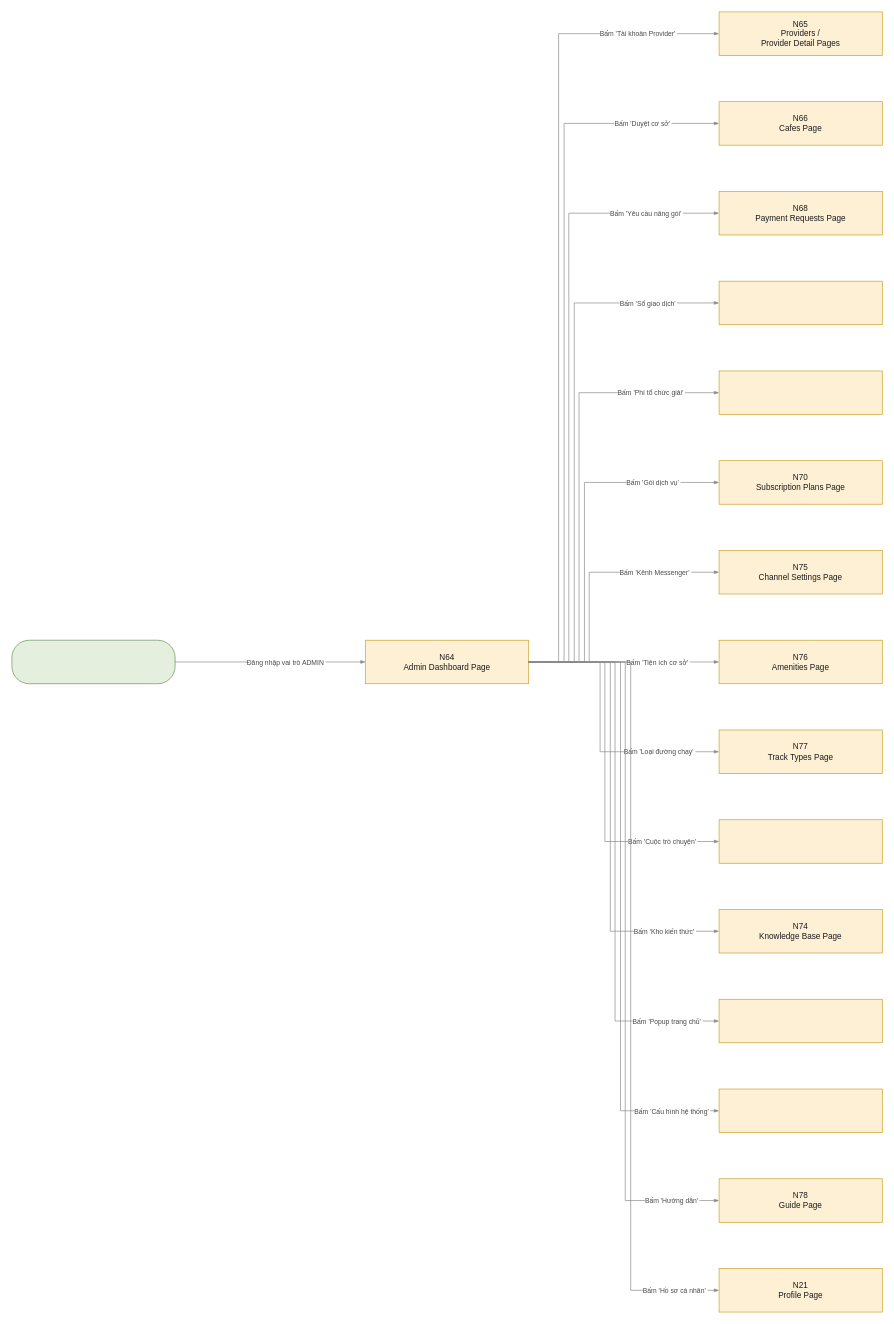
Image size: 894x1324. Some labels were removed from this diagram. The box of each missing label's shape, as (x1, y1, x2, y2) in pixels:
N13 Login Page: (11, 640, 175, 684)
N67 Payments Page: (718, 280, 882, 325)
N69 Contest Fee Orders Page: (718, 370, 882, 414)
N71 Feature Flags Page: (718, 1088, 882, 1133)
N72 Featured Popups Page: (718, 999, 882, 1043)
N73 System Chat Page: (718, 819, 882, 863)
